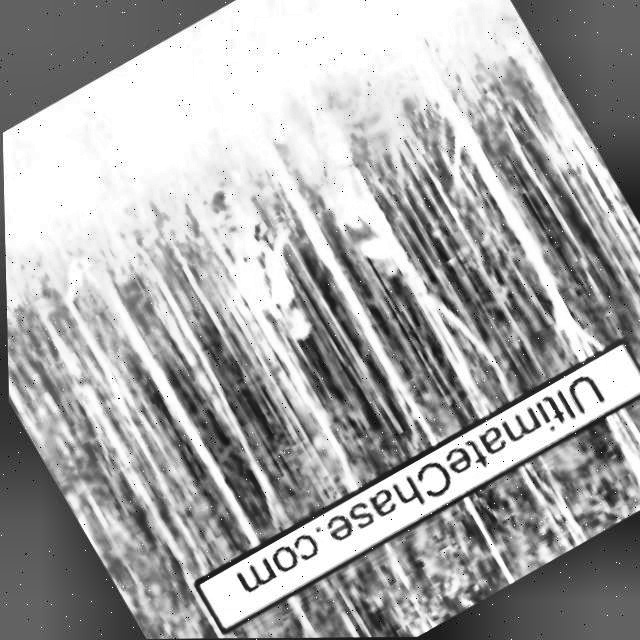Smoke: (43, 245, 104, 307)
